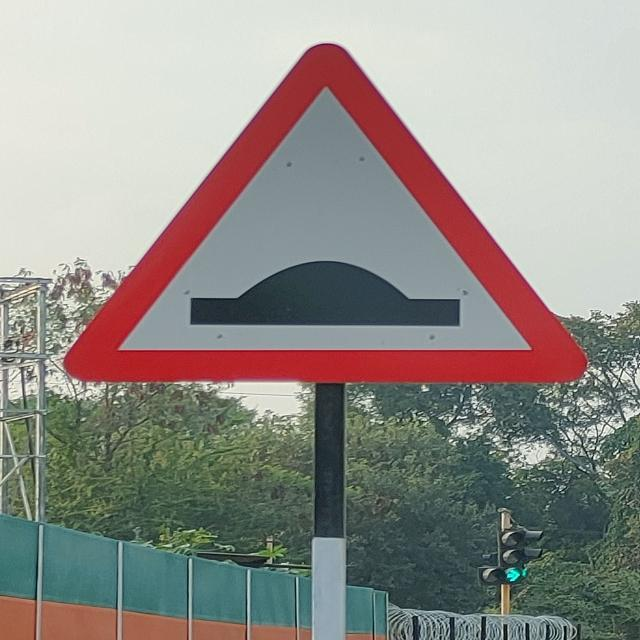hump or rough road: (61, 42, 586, 381)
